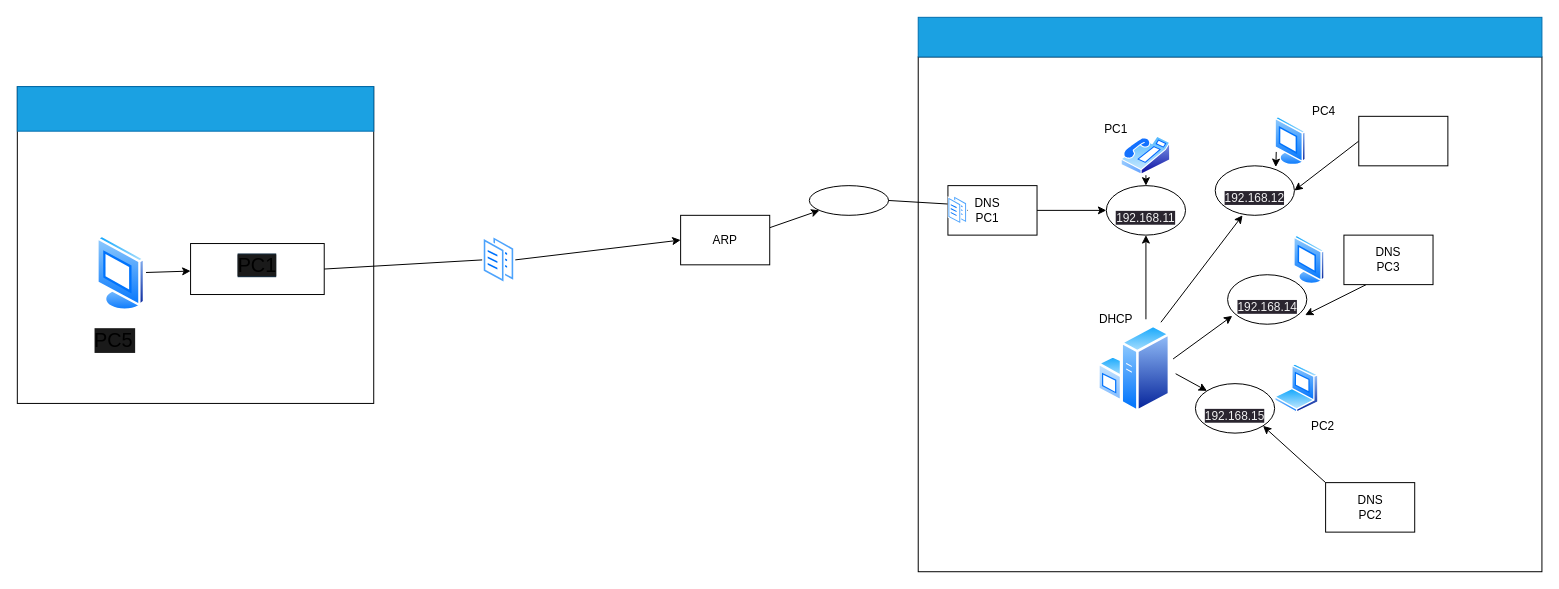
Image size: 1559x589. Some labels were removed from this diagram. Here are the shapes that lost their labels. From the top down, the centre of each, then its label:
At point (1229, 36): "ACTIVE DIRECTORY WINDOWS SERVER".
At point (195, 108): "WINDOWS-CLIENT".
At point (1403, 140): "DNS PC4".
At point (848, 200): "PC1?".
